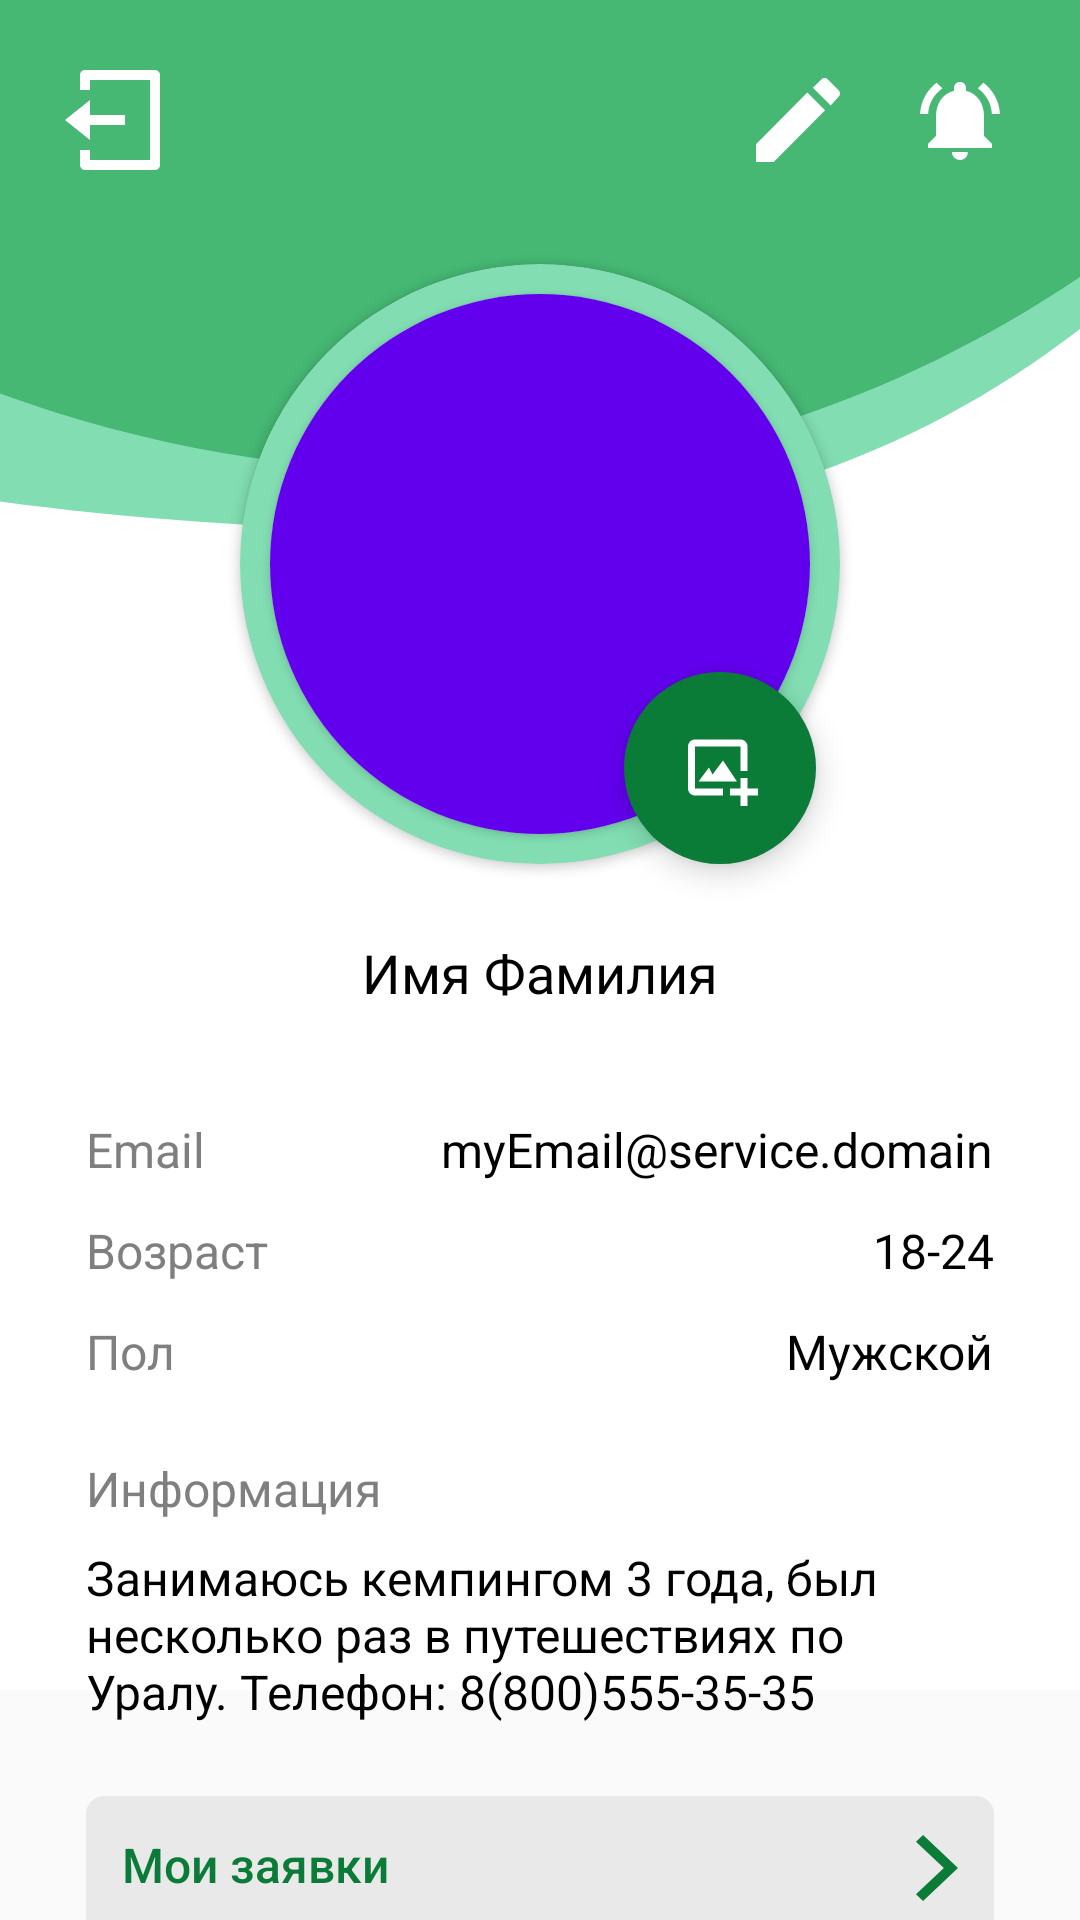

Point at icon controls on the screen. Image size 1080 × 1920, points as [x,y].
add photo: [720,768]
